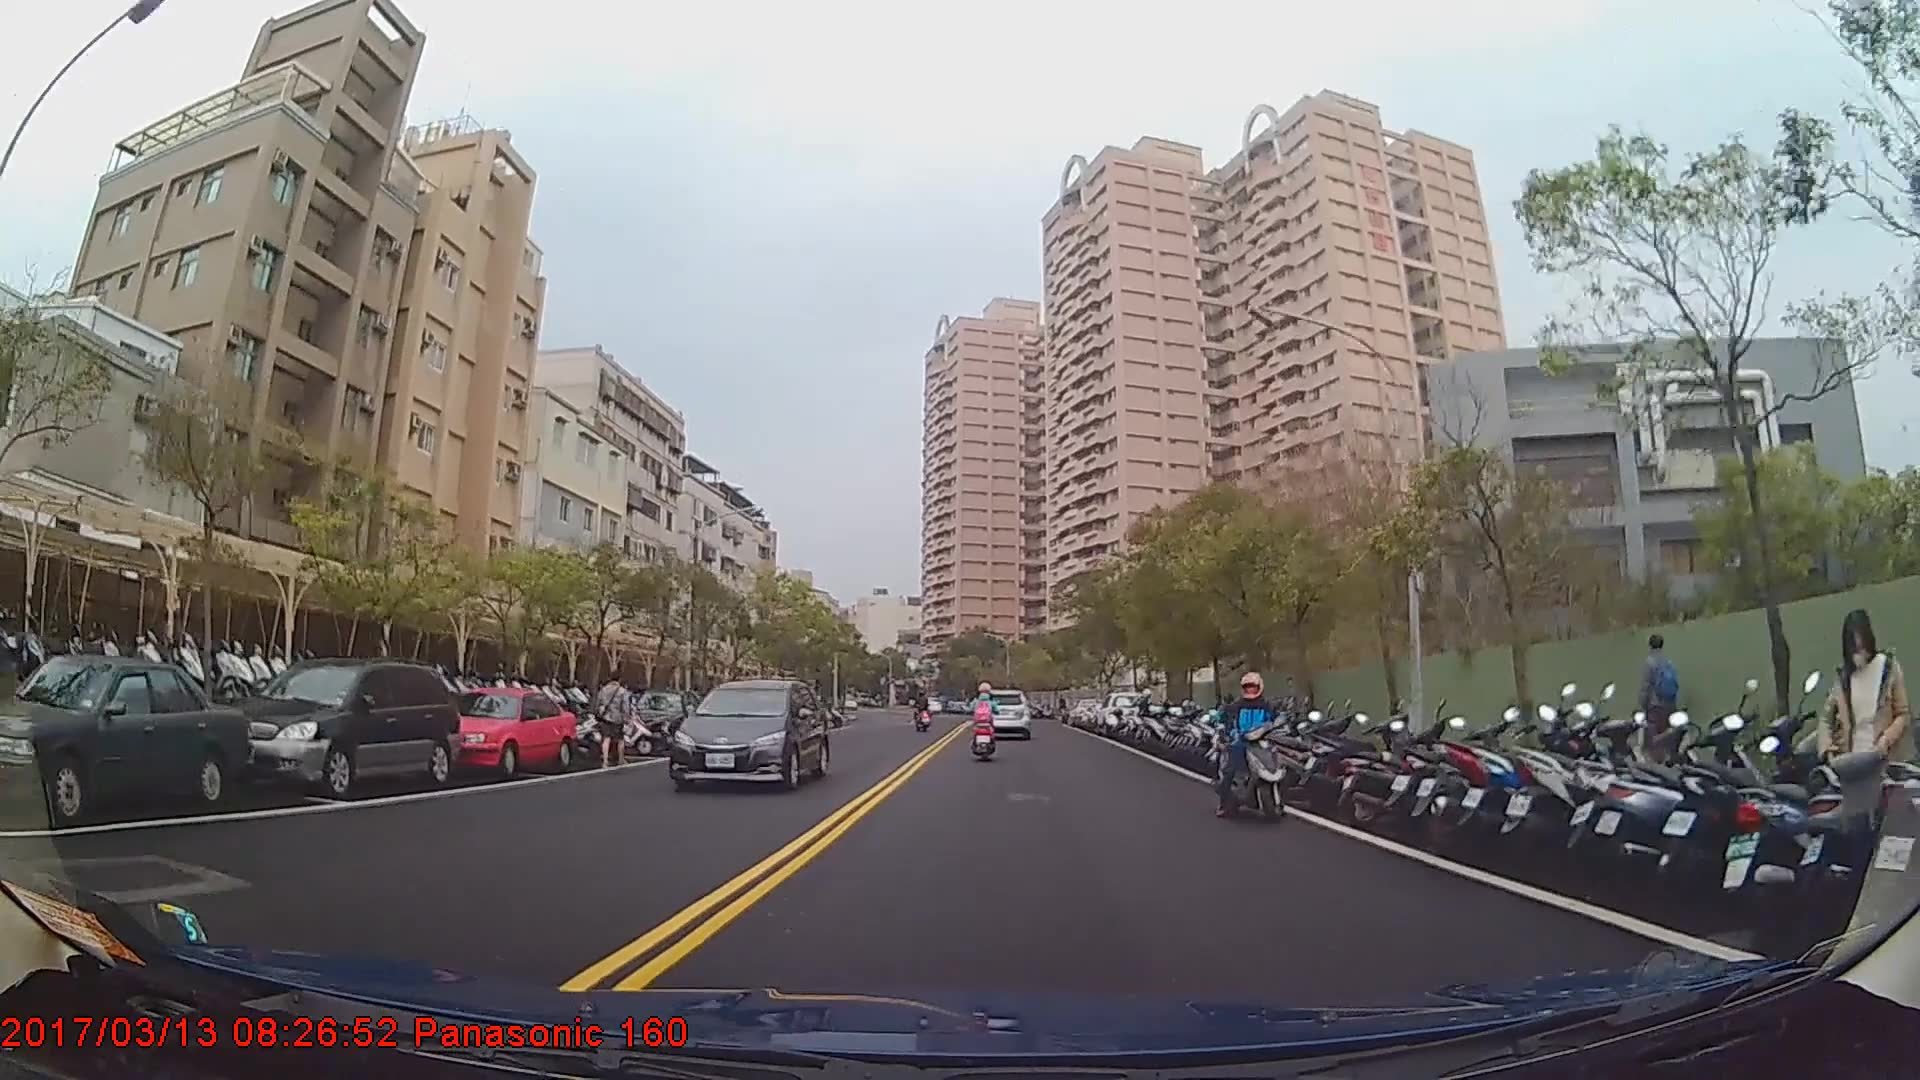pedestrian: (1814, 610, 1914, 929), (1630, 628, 1682, 791), (593, 672, 636, 772)
rider: (1216, 670, 1291, 822), (966, 680, 999, 755), (913, 690, 933, 727)
vehicle: (0, 652, 251, 821), (212, 654, 460, 792), (666, 674, 827, 788), (440, 688, 576, 776), (627, 688, 706, 751), (1090, 690, 1151, 737), (977, 687, 1030, 738)
